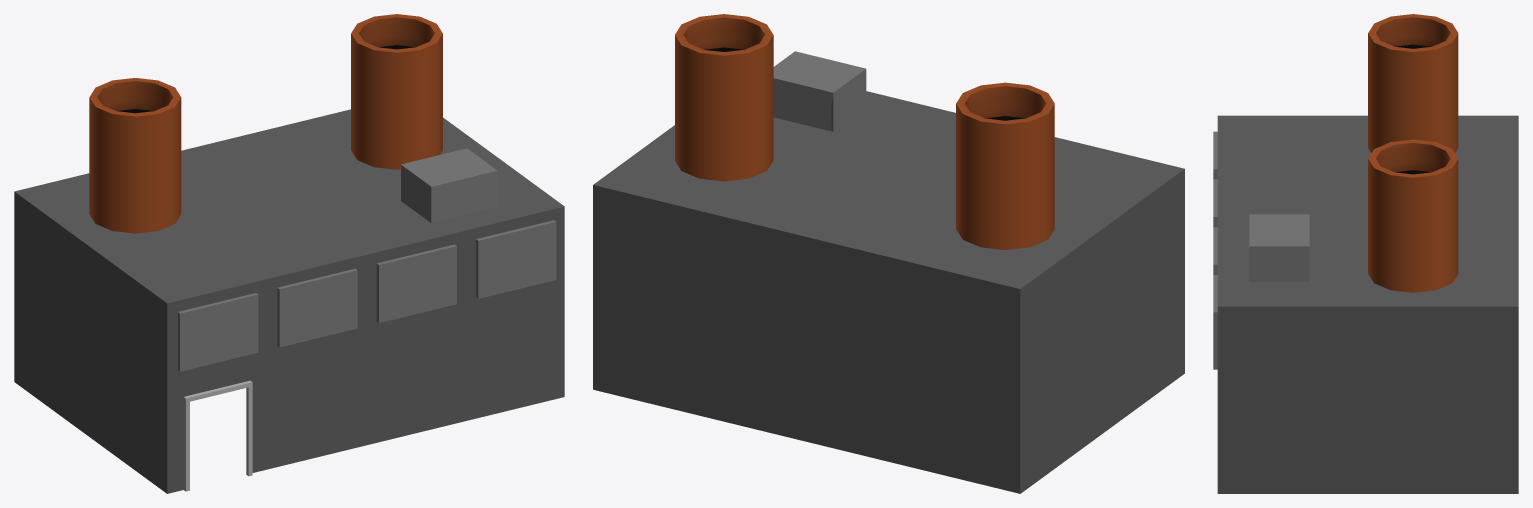
Rendered from GeoThermal_Outside.fbx.
The picture shows the model from 3 angles, left to right: view 1: azimuth 30°, elevation 25°; view 2: azimuth 150°, elevation 25°; view 3: azimuth 270°, elevation 25°; orthographic projection. The views are drawn at different scales.
Visible parts, largest first — view 1: Box245; view 2: Box245; view 3: Box245.
Part boxes in pixels (left/top/right/bottom): Box245: left=14, top=14, right=564, bottom=493; Box245: left=593, top=14, right=1184, bottom=493; Box245: left=1213, top=14, right=1518, bottom=493.
Size of the model in its own units: 300 by 222 by 203.
1 material, 1 textured.
